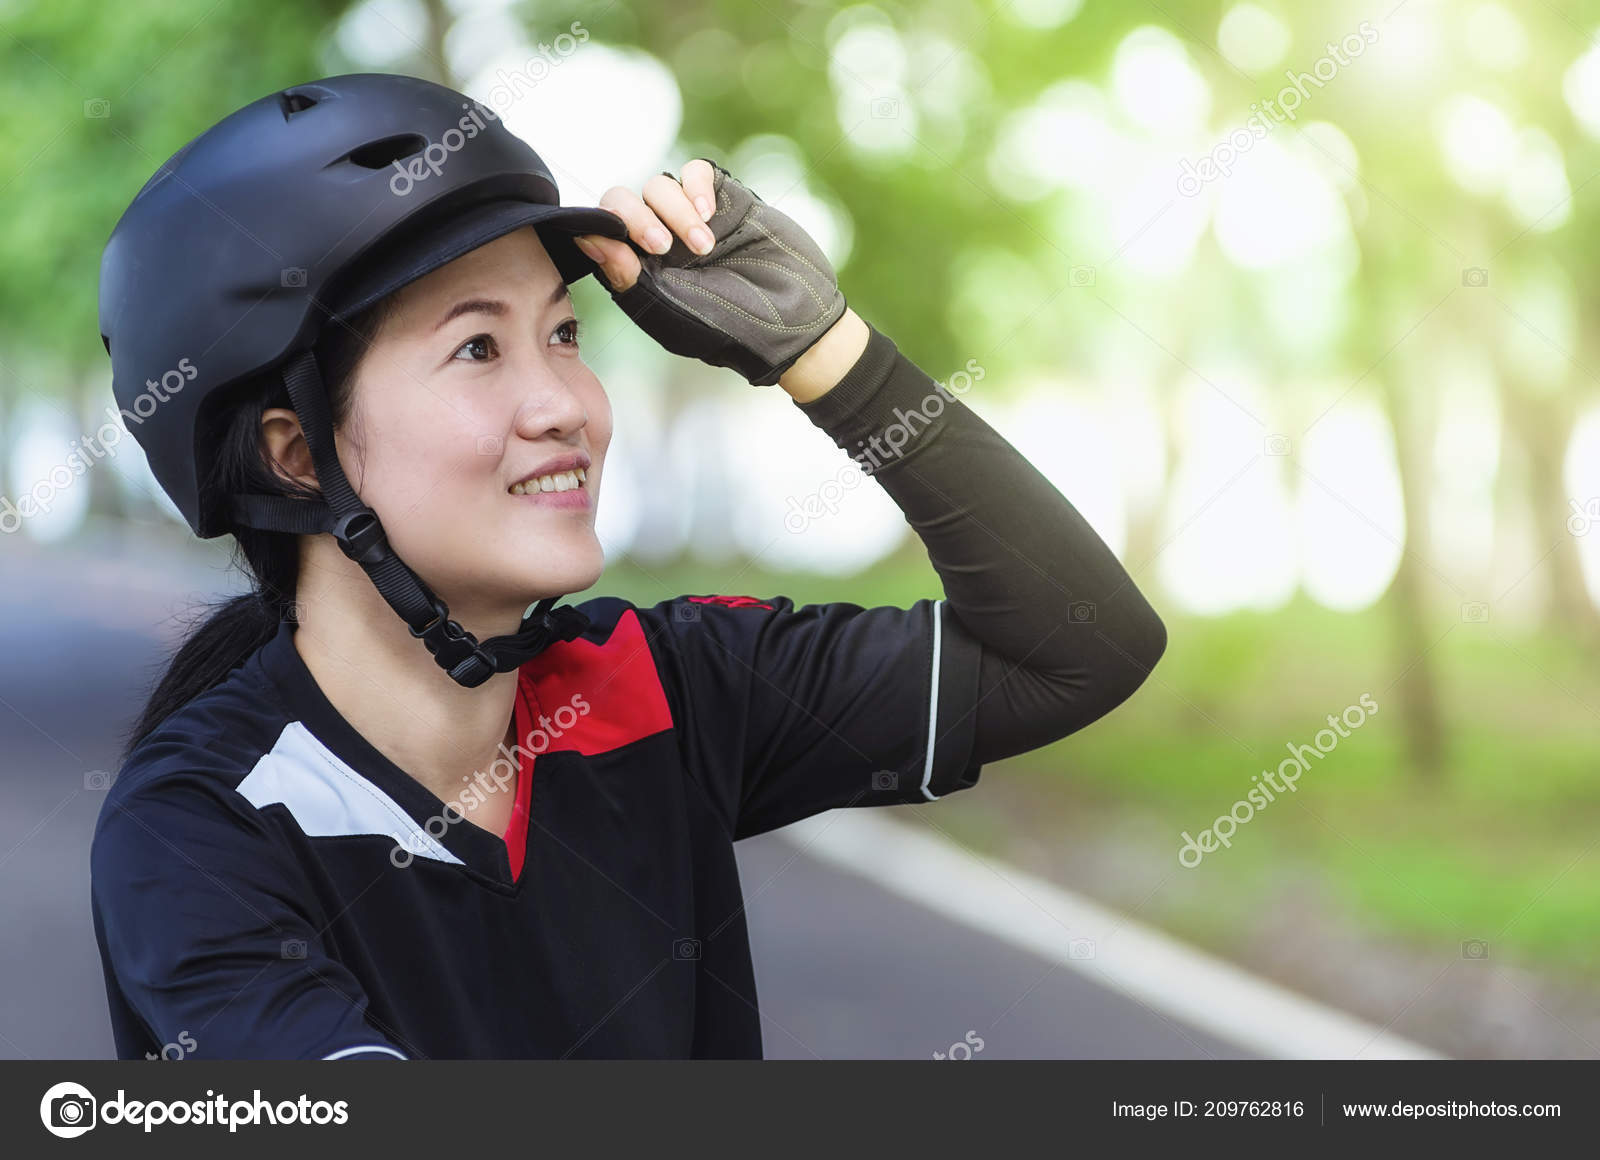helmet: (99, 75, 630, 596)
